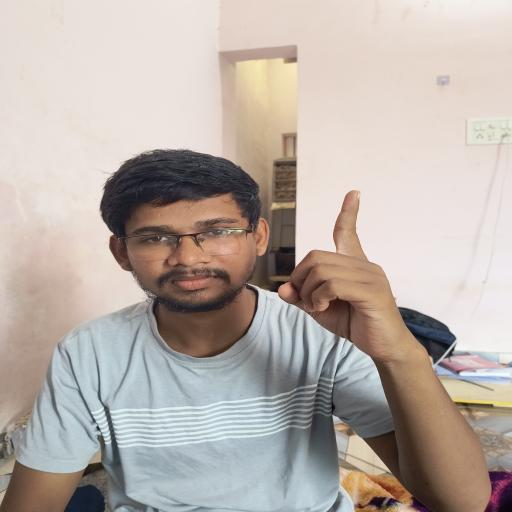What: (269, 177, 445, 368)
